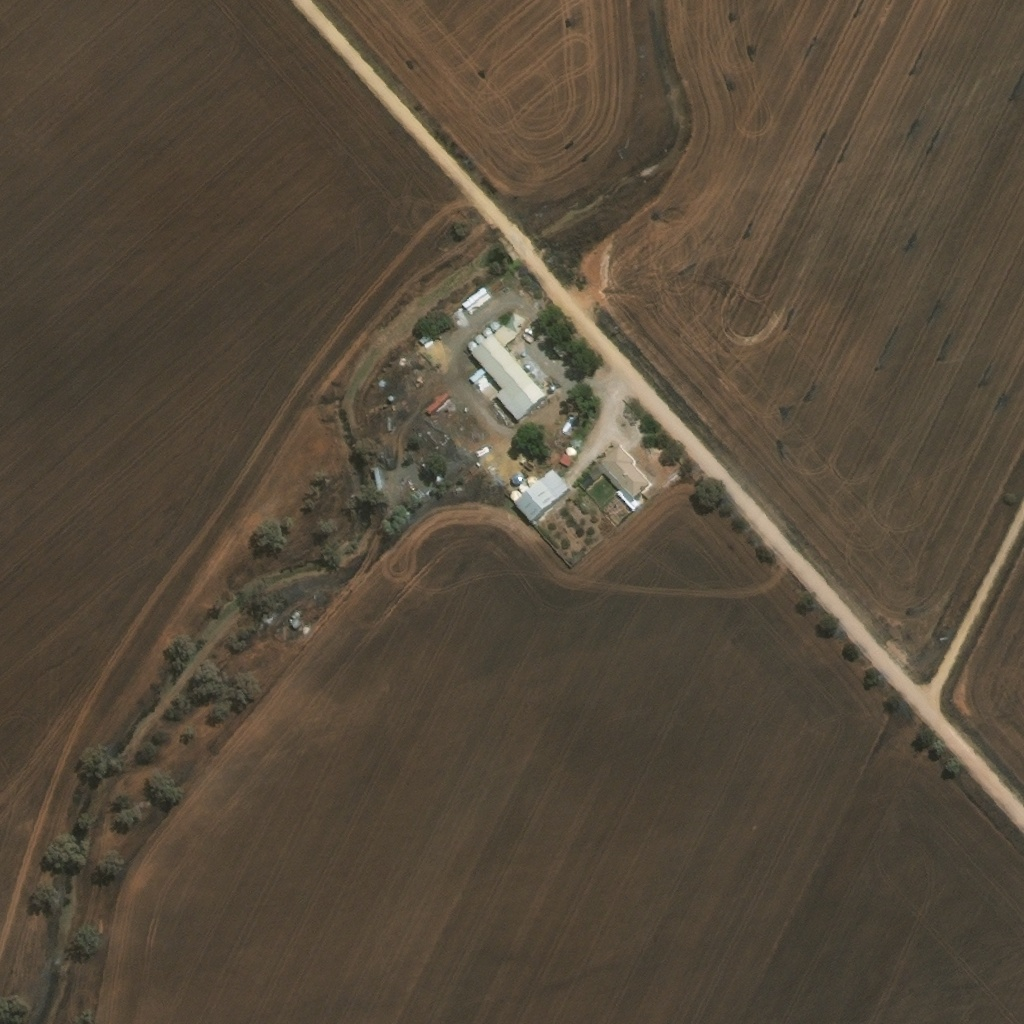0 no-damage: (472, 310, 546, 419), (588, 445, 648, 502), (513, 468, 570, 520), (601, 490, 640, 526), (578, 473, 596, 491), (560, 455, 572, 467), (491, 322, 501, 332), (510, 491, 520, 501), (476, 335, 486, 344), (519, 484, 529, 493), (528, 477, 537, 487), (566, 447, 576, 456), (468, 342, 477, 351), (484, 329, 493, 338), (570, 439, 578, 448), (388, 396, 394, 403)
